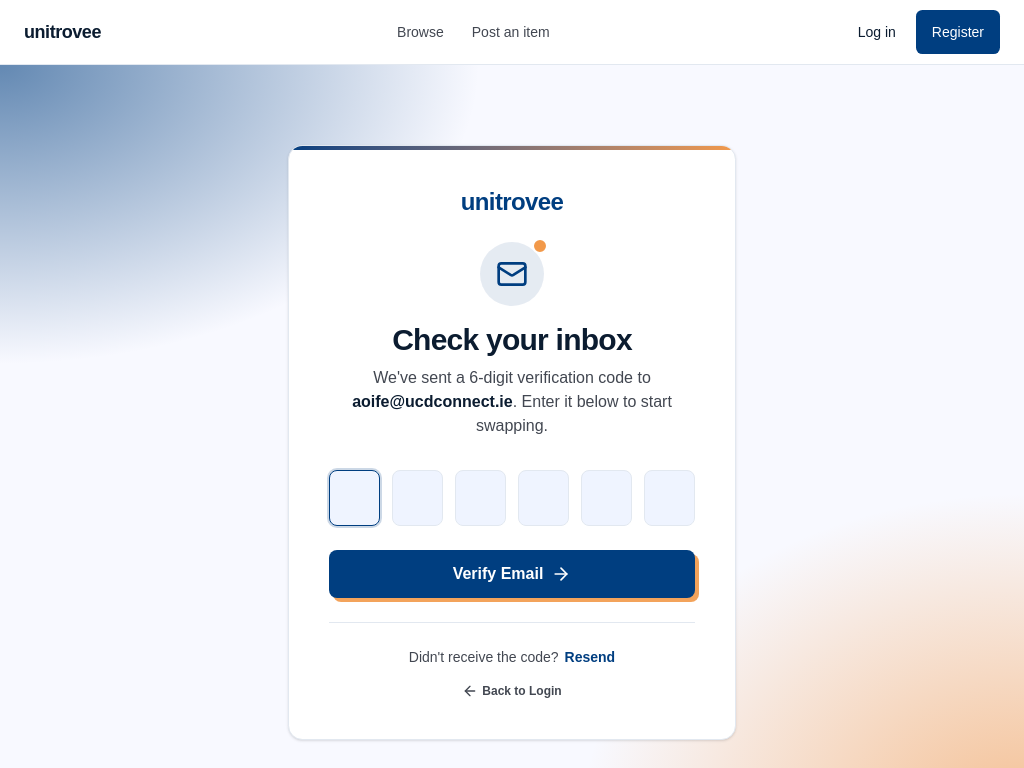
VerifyEmailPage › requires all six digits before submitting
Type "1" into the field named "Verification code digit 1" at (354, 498), box [329,470,380,526]
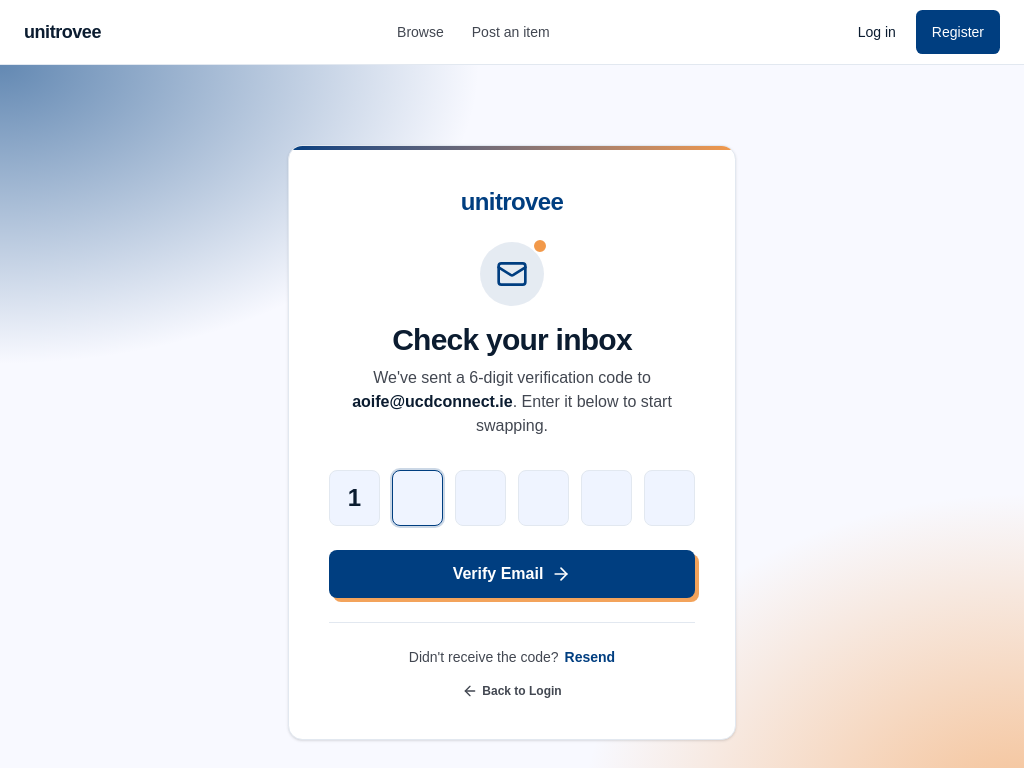
Click the button "Verify Email" at (512, 574), box [329,550,695,598]
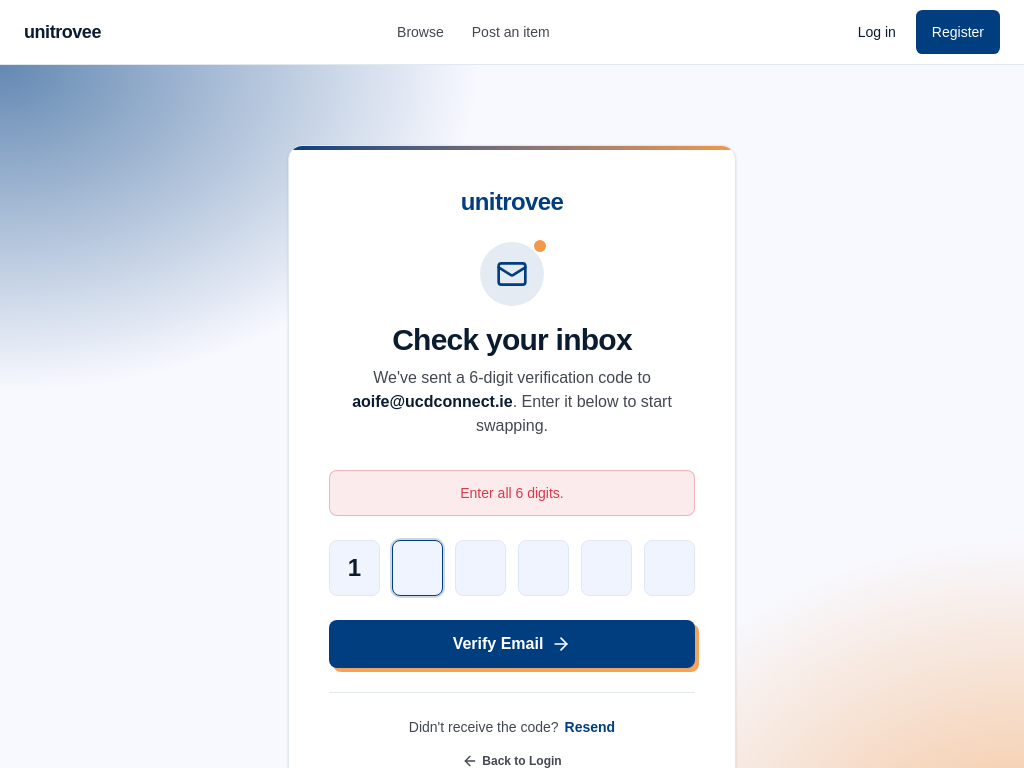
Check: the text "Enter all 6 digits." is shown, box [329,470,695,516]
